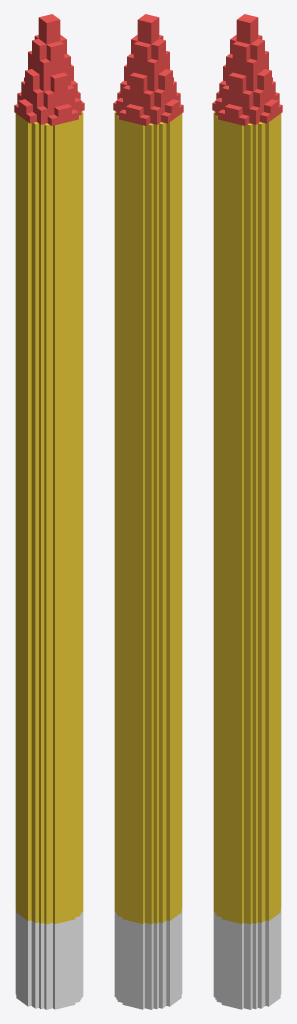
Rendered from pencil.fbx.
The picture shows the model from 3 angles, left to right: view 1: azimuth 30°, elevation 25°; view 2: azimuth 150°, elevation 25°; view 3: azimuth 330°, elevation 25°; orthographic projection.
Parts seen in each view (by area): view 1: default; view 2: default; view 3: default.
Part boxes in pixels (box(x1,y1,x2,y2)): default: box(14, 14, 84, 1009); default: box(113, 14, 183, 1009); default: box(212, 14, 282, 1009).
Size of the model in its own units: 4 by 68.5 by 4.
